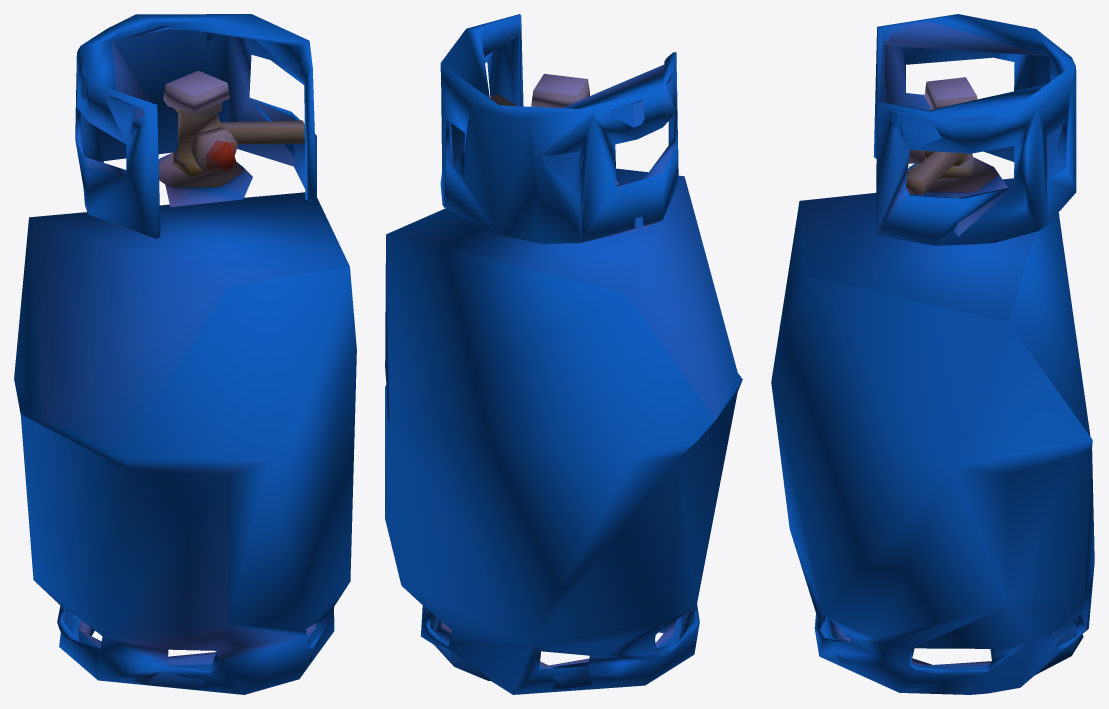
Rendered from model.progressive.glb.
3 renders of one model, left to right at view 1: azimuth 30°, elevation 25°; view 2: azimuth 150°, elevation 25°; view 3: azimuth 270°, elevation 25°, orthographic.
Visible parts, largest first — view 1: material; view 2: material; view 3: material.
Boxes of the visible parts, left/top/right/bottom form: material: left=14, top=14, right=356, bottom=694; material: left=385, top=14, right=742, bottom=694; material: left=771, top=14, right=1094, bottom=694.
Size of the model in its own units: 1.07 by 1.88 by 0.9608.
1 material, 1 textured.
